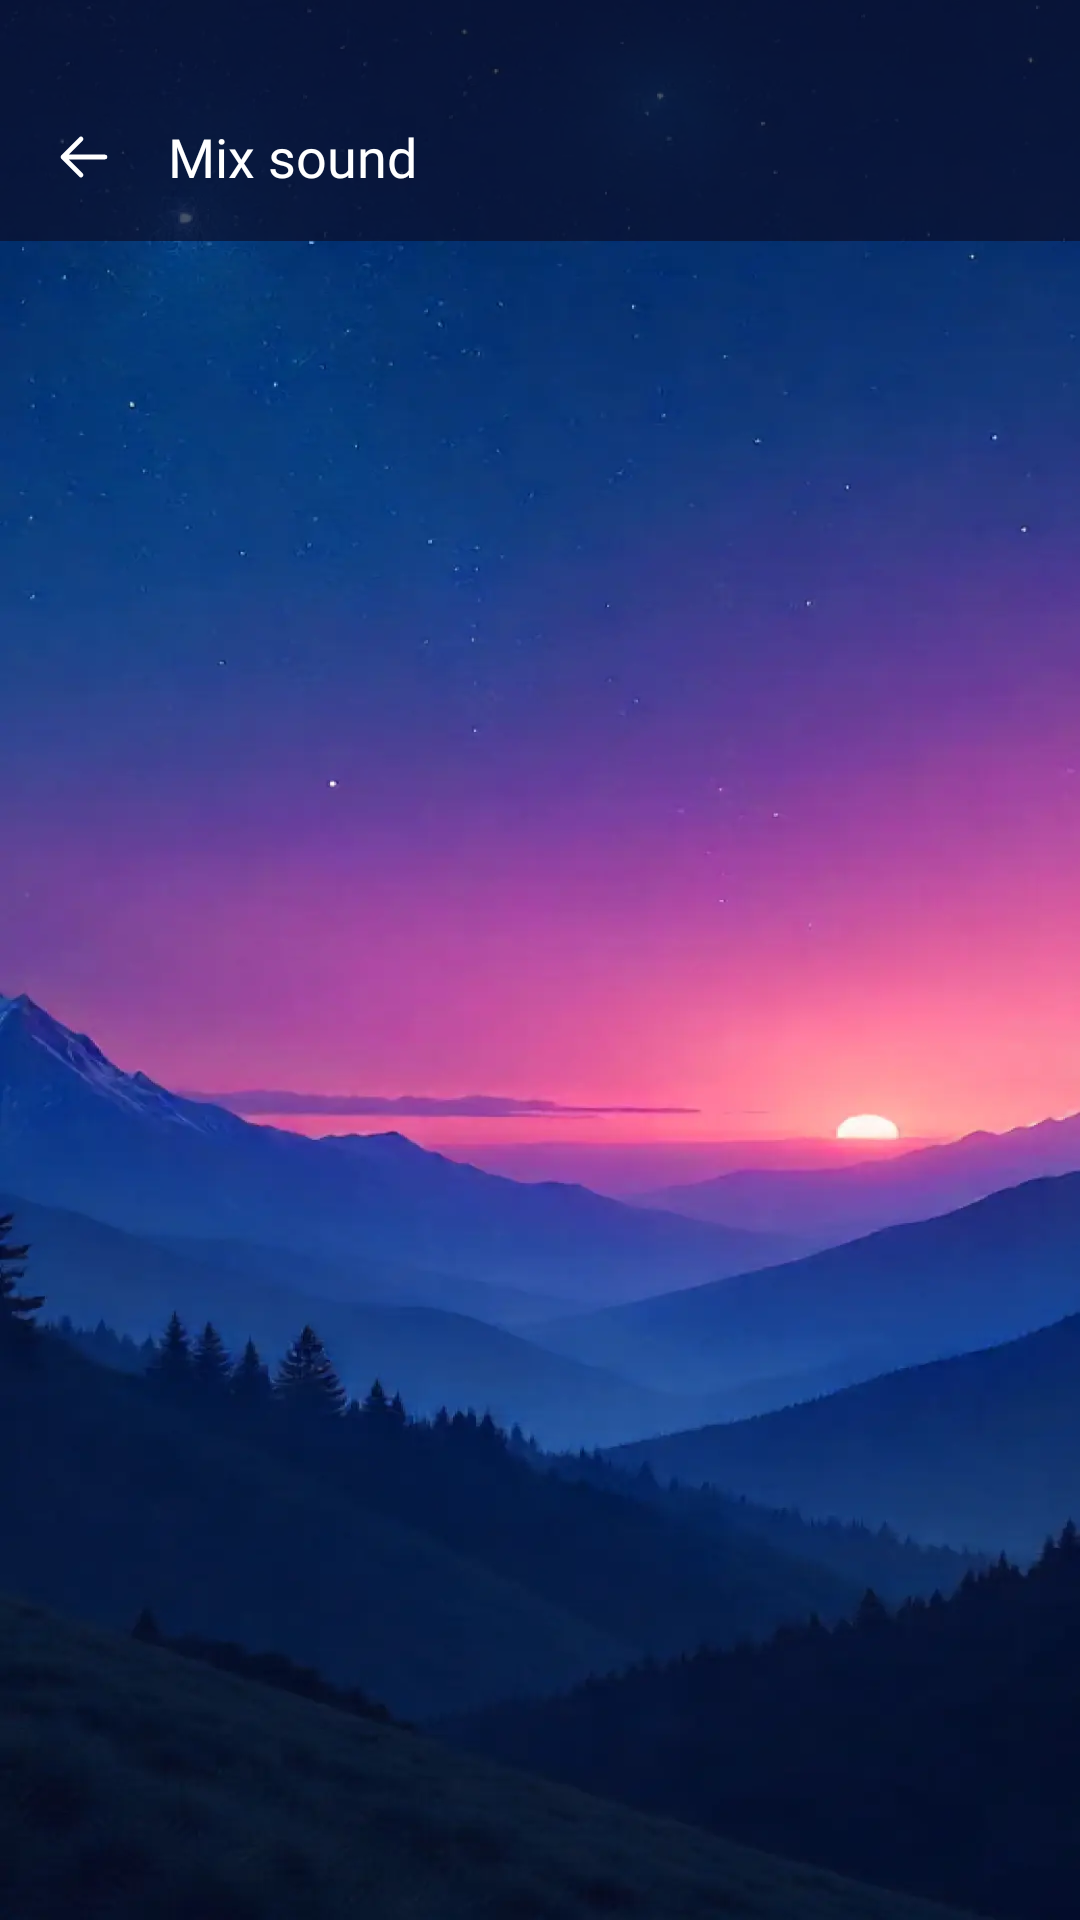

Locate icon controls on the screen. Image size 1080*1920, boxes as (x1, y1, x2, y2).
back: (60, 136, 108, 178)
